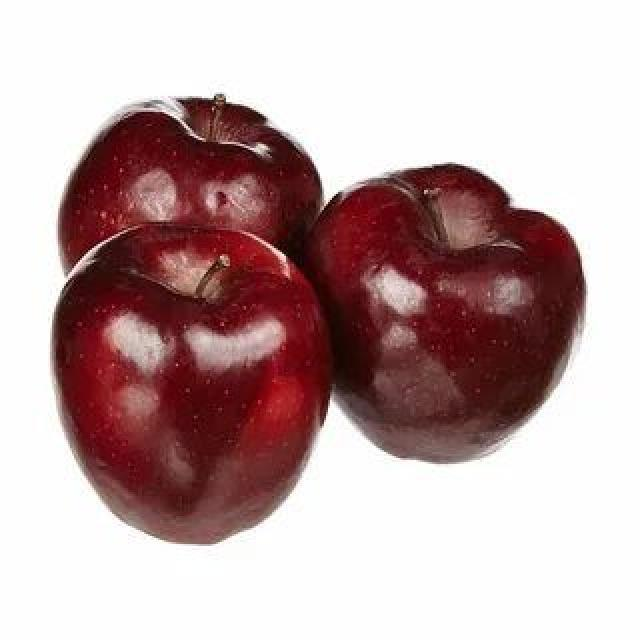Fresh Apple: (48, 218, 320, 548)
